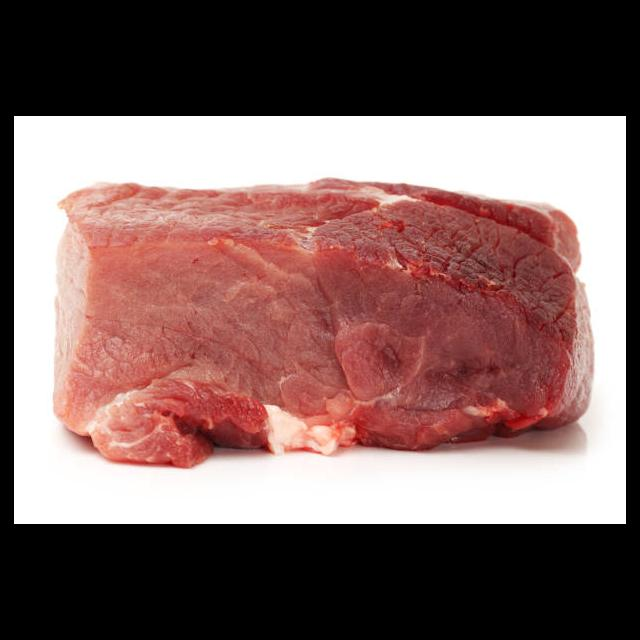beef: (51, 174, 596, 469)
